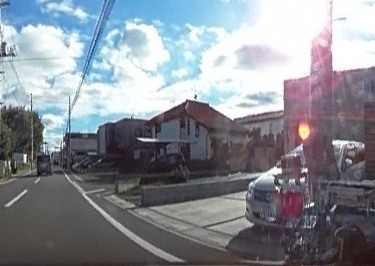person: (352, 62, 375, 266)
